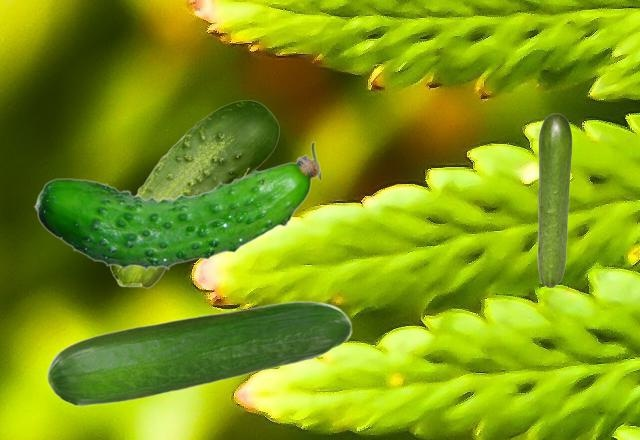cucumber: (33, 141, 319, 270), (46, 300, 351, 406), (109, 100, 278, 287), (537, 113, 571, 287)
